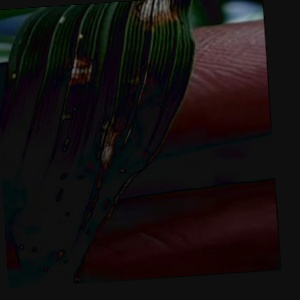Brown_Spot: (75, 109, 154, 173), (135, 0, 193, 39), (60, 48, 105, 91), (22, 216, 54, 239)
